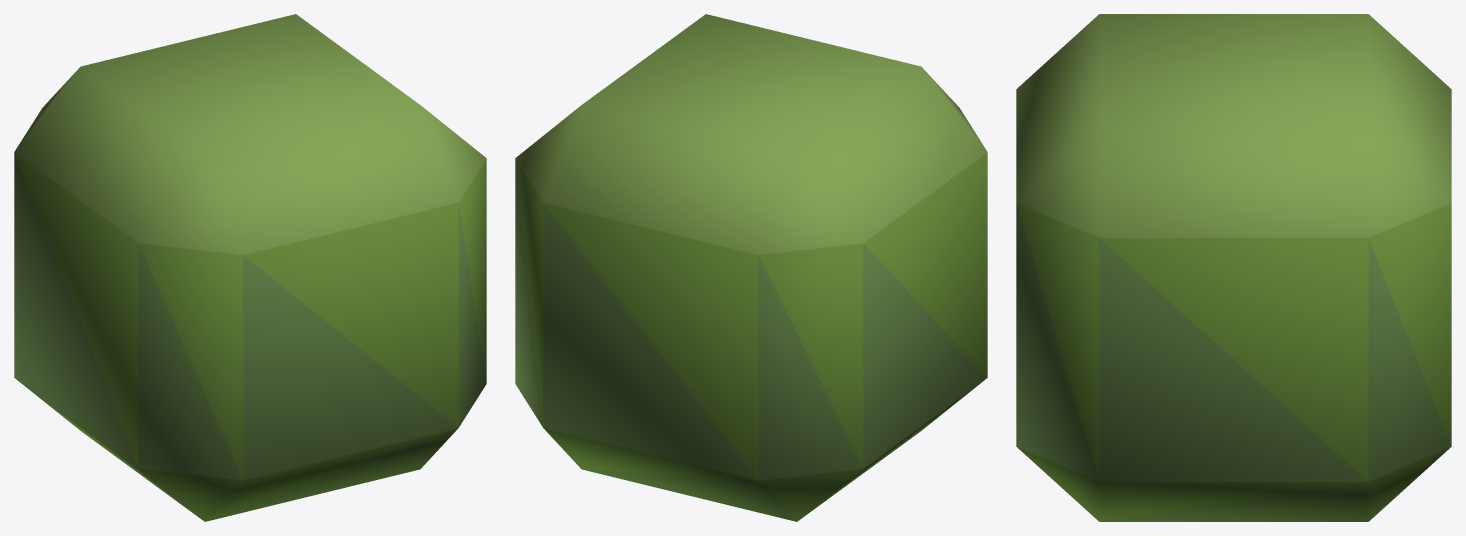
Rendered from itch_kaykit_forest_bush_2_a_color1.glb.
3 renders of one model, left to right at view 1: azimuth 30°, elevation 25°; view 2: azimuth 150°, elevation 25°; view 3: azimuth 270°, elevation 25°, orthographic. The views are drawn at different scales.
Visible parts, largest first — view 1: Bush_2_A_Color1; view 2: Bush_2_A_Color1; view 3: Bush_2_A_Color1.
Part boxes in pixels (x1,y1,x2,y2): Bush_2_A_Color1: (14, 14, 486, 521); Bush_2_A_Color1: (515, 14, 987, 521); Bush_2_A_Color1: (1016, 14, 1451, 521).
Size of the model in its own units: 0.96 by 0.96 by 0.96.
